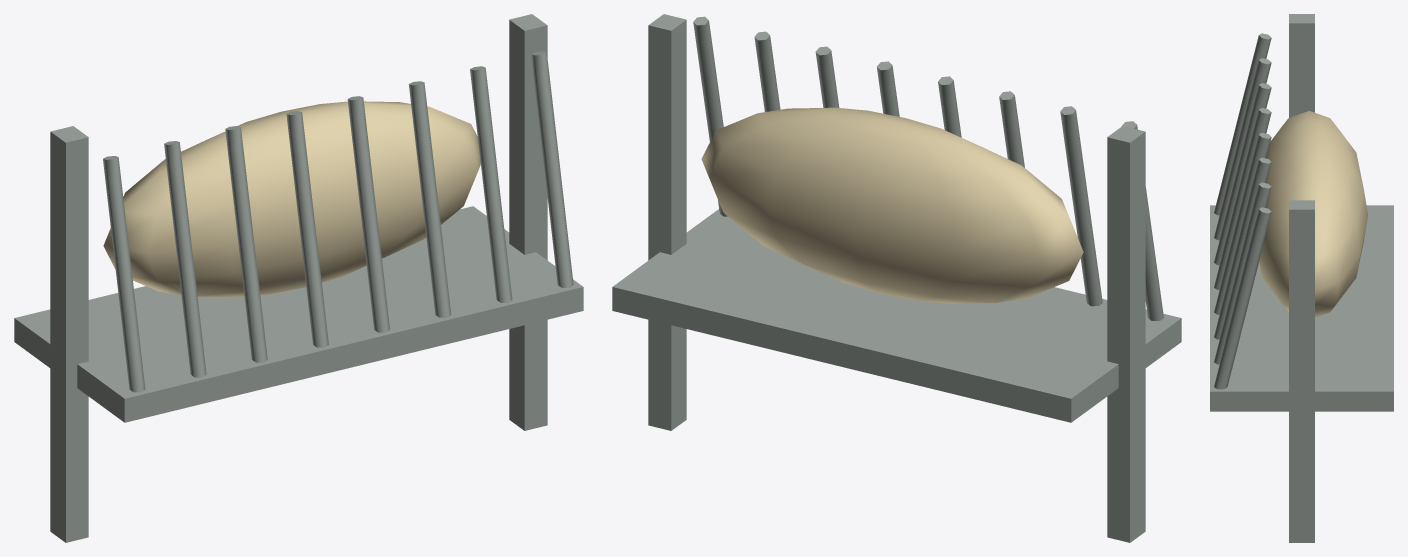
Rendered from zoo-and-safari-park-builder-hay-rack-c5084ca8__21479.glb.
3 views of the same model, side by side, from view 1: azimuth 30°, elevation 25°; view 2: azimuth 150°, elevation 25°; view 3: azimuth 270°, elevation 25° (orthographic). The views are drawn at different scales.
Visible parts, largest first — view 1: hay-rack; view 2: hay-rack; view 3: hay-rack.
Part boxes in pixels (x1,y1,x2,y2): hay-rack: (14, 14, 583, 542); hay-rack: (612, 14, 1181, 542); hay-rack: (1210, 14, 1393, 542).
Size of the model in its own units: 1.26 by 1 by 0.4999.
